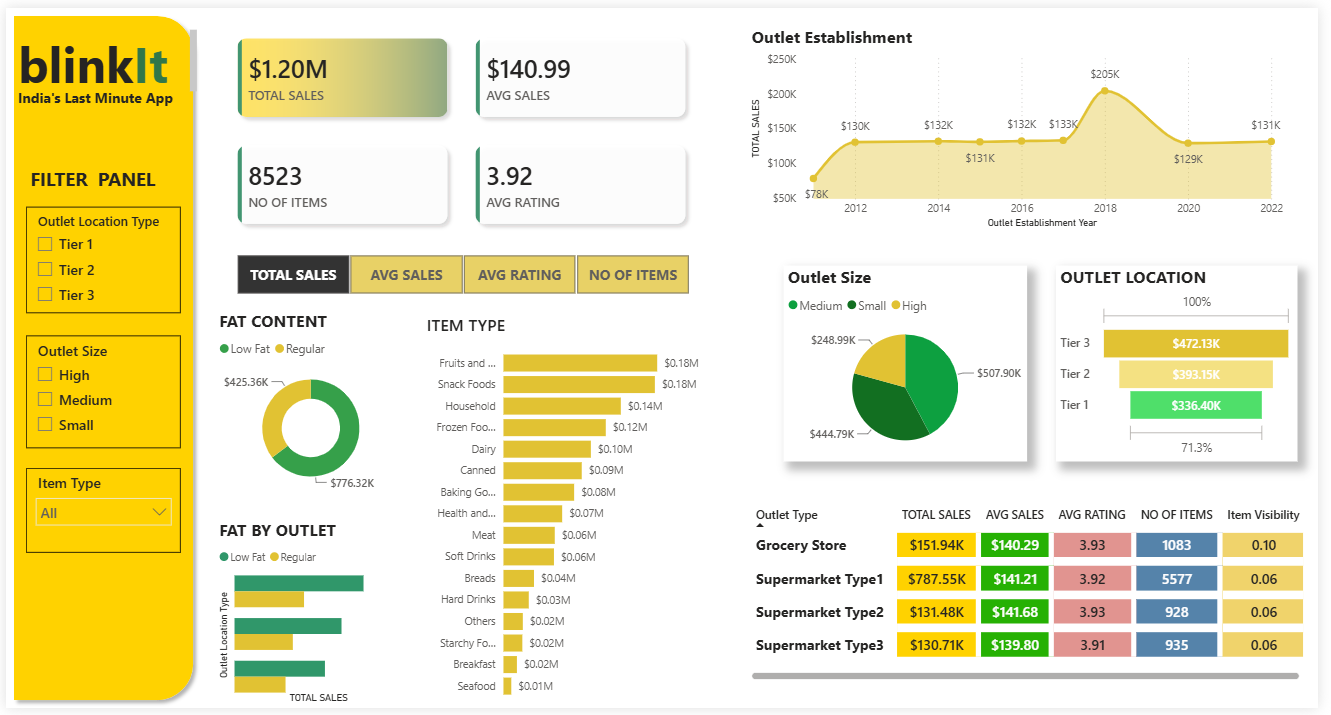

Layout of this report page (visuals, bound fields, positions):
{"tool":"powerbi","page":{"name":"Page 1","canvas":[1500,800],"ordinal":0},"visuals":[{"type":"shape","box":[0,0,222.9,800],"z":0},{"type":"textbox","box":[8.6,20,214.3,82.9],"z":1000},{"type":"textbox","box":[8.6,85.7,205.7,35.7],"z":2000},{"type":"donutChart","title":"FAT CONTENT","fields":{"Y":["BlinkIT Grocery Data.TOTAL SALES"],"Category":["BlinkIT Grocery Data.Item Fat Content"]},"box":[238.6,344.3,220,217.1],"z":3000},{"type":"slicer","fields":{"Values":["Metrics.Metrics"]},"box":[238.6,275.7,565.7,57.1],"z":4000},{"type":"barChart","title":"ITEM TYPE","fields":{"Y":["BlinkIT Grocery Data.TOTAL SALES"],"Category":["BlinkIT Grocery Data.Item Type"]},"box":[475.7,348.6,321.4,451.4],"z":5000},{"type":"clusteredBarChart","title":"FAT BY OUTLET","fields":{"Y":["BlinkIT Grocery Data.TOTAL SALES"],"Category":["BlinkIT Grocery Data.Outlet Location Type"],"Series":["BlinkIT Grocery Data.Item Fat Content"]},"box":[238.6,582.9,220,217.1],"z":6000},{"type":"lineChart","title":"Outlet Establishment ","fields":{"Category":["BlinkIT Grocery Data.Outlet Establishment Year"],"Y":["BlinkIT Grocery Data.TOTAL SALES"]},"box":[847.1,20,617.1,237.1],"z":7000},{"type":"pieChart","title":"Outlet Size","fields":{"Y":["BlinkIT Grocery Data.TOTAL SALES"],"Category":["BlinkIT Grocery Data.Outlet Size"]},"box":[888.6,294.3,278.6,224.3],"z":8000},{"type":"funnel","title":"OUTLET LOCATION","fields":{"Y":["BlinkIT Grocery Data.TOTAL SALES"],"Category":["BlinkIT Grocery Data.Outlet Location Type"]},"box":[1200,294.3,275.7,224.3],"z":9000},{"type":"pivotTable","fields":{"Rows":["BlinkIT Grocery Data.Outlet Type"],"Values":["BlinkIT Grocery Data.TOTAL SALES","BlinkIT Grocery Data.AVG SALES","BlinkIT Grocery Data.AVG RATING","BlinkIT Grocery Data.NO OF ITEMS","Avg(BlinkIT Grocery Data.Item Visibility)"]},"box":[847.1,561.4,640,211.4],"z":10000},{"type":"cardVisual","fields":{"Data":["BlinkIT Grocery Data.TOTAL SALES","BlinkIT Grocery Data.AVG SALES","BlinkIT Grocery Data.NO OF ITEMS","BlinkIT Grocery Data.AVG RATING"]},"box":[235.7,5.7,570,270],"z":11000},{"type":"slicer","fields":{"Values":["BlinkIT Grocery Data.Outlet Location Type"]},"box":[22.9,227.1,177.1,121.4],"z":11001},{"type":"slicer","fields":{"Values":["BlinkIT Grocery Data.Outlet Size"]},"box":[22.9,374.3,177.1,128.6],"z":11002},{"type":"slicer","fields":{"Values":["BlinkIT Grocery Data.Item Type"]},"box":[22.9,525.7,177.1,97.1],"z":11003},{"type":"textbox","box":[22.9,175.7,160,38.6],"z":11004}]}

Visuals, with their boxes in screenshot pixels (x1, y1, x2, y2), scaled from the page's 1500x800 canvas onto the 1331x715 screenshot:
shape: detection(0, 0, 198, 714)
textbox: detection(8, 18, 198, 92)
textbox: detection(8, 77, 190, 109)
"FAT CONTENT" donutChart: detection(212, 308, 407, 502)
slicer - Metrics.Metrics: detection(212, 246, 714, 297)
"ITEM TYPE" barChart: detection(422, 312, 707, 714)
"FAT BY OUTLET" clusteredBarChart: detection(212, 521, 407, 714)
"Outlet Establishment " lineChart: detection(752, 18, 1299, 230)
"Outlet Size" pieChart: detection(788, 263, 1036, 463)
"OUTLET LOCATION" funnel: detection(1065, 263, 1309, 463)
pivotTable - BlinkIT Grocery Data.Outlet Type x BlinkIT Grocery Data.TOTAL SALES: detection(752, 502, 1320, 691)
cardVisual - BlinkIT Grocery Data.TOTAL SALES x BlinkIT Grocery Data.AVG SALES: detection(209, 5, 715, 246)
slicer - BlinkIT Grocery Data.Outlet Location Type: detection(20, 203, 177, 311)
slicer - BlinkIT Grocery Data.Outlet Size: detection(20, 335, 177, 449)
slicer - BlinkIT Grocery Data.Item Type: detection(20, 470, 177, 557)
textbox: detection(20, 157, 162, 192)
